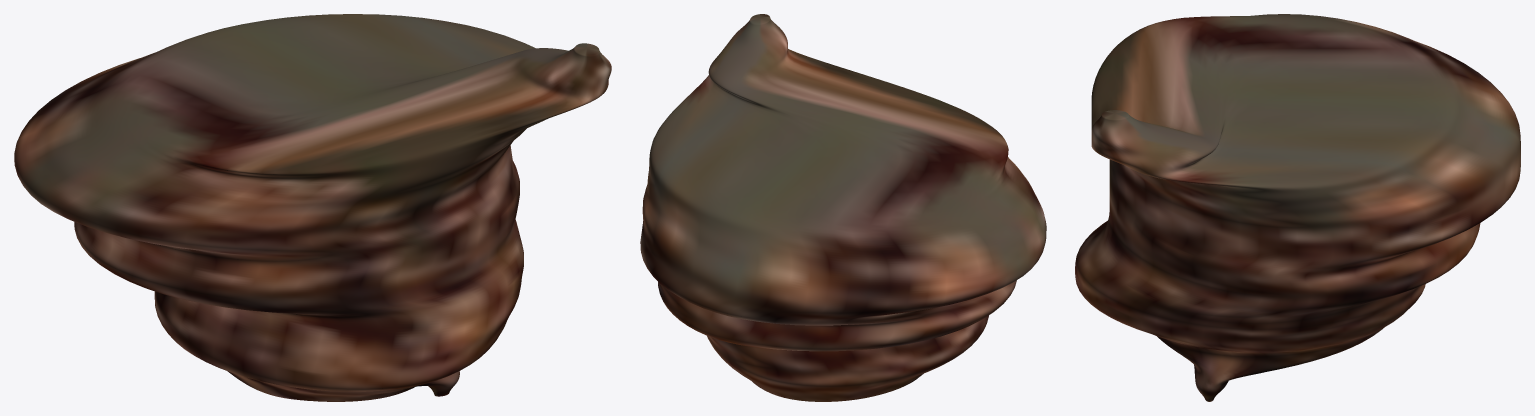
3 views of the same model, side by side, from view 1: azimuth 30°, elevation 25°; view 2: azimuth 150°, elevation 25°; view 3: azimuth 270°, elevation 25° (orthographic). The views are drawn at different scales.
Visible parts, largest first — view 1: hull-J2; view 2: hull-J2; view 3: hull-J2.
Part boxes in pixels (x1,y1,x2,y2): hull-J2: (14, 14, 611, 401); hull-J2: (640, 14, 1046, 401); hull-J2: (1075, 14, 1520, 401).
Bounding box in the file's own units: 3.54 × 2.6 × 3.21.
